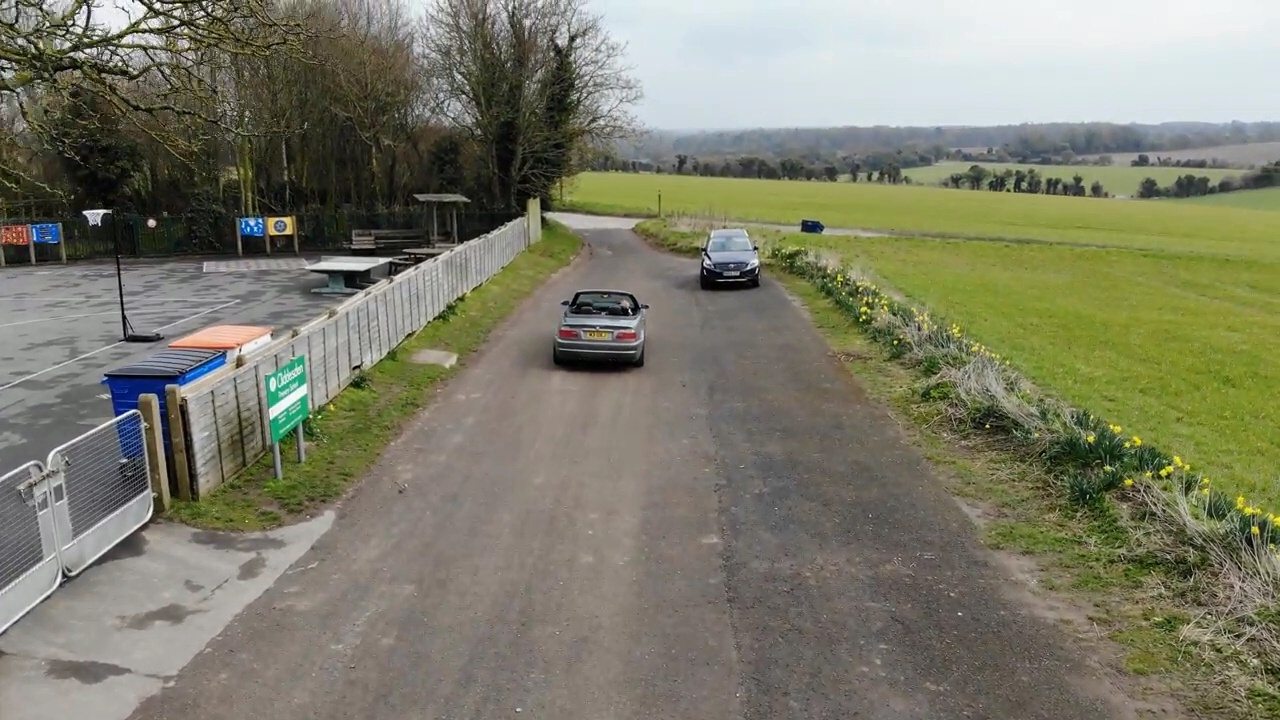araba: (549, 287, 650, 369), (696, 224, 763, 289)
